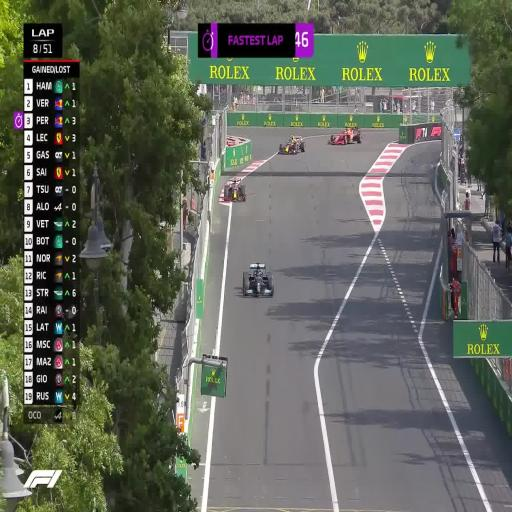f1_car: (242, 263, 274, 296), (328, 127, 362, 145), (224, 176, 246, 201), (278, 135, 305, 154)
